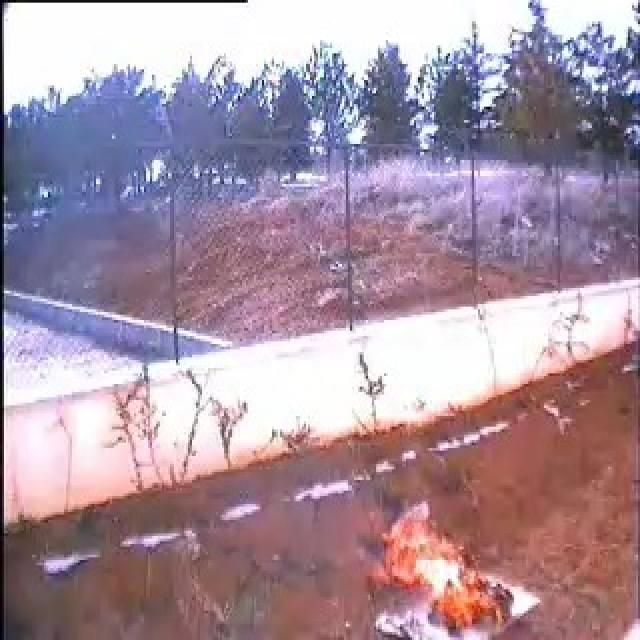fire: (384, 527, 500, 619)
